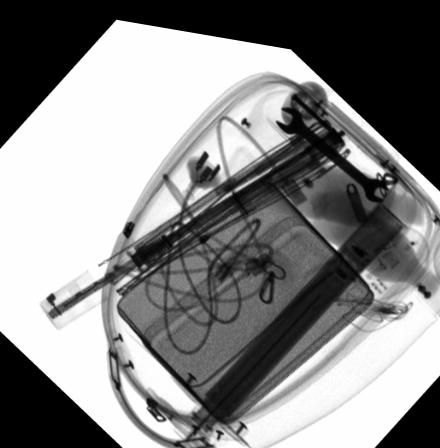Wrench: (273, 95, 390, 189)
